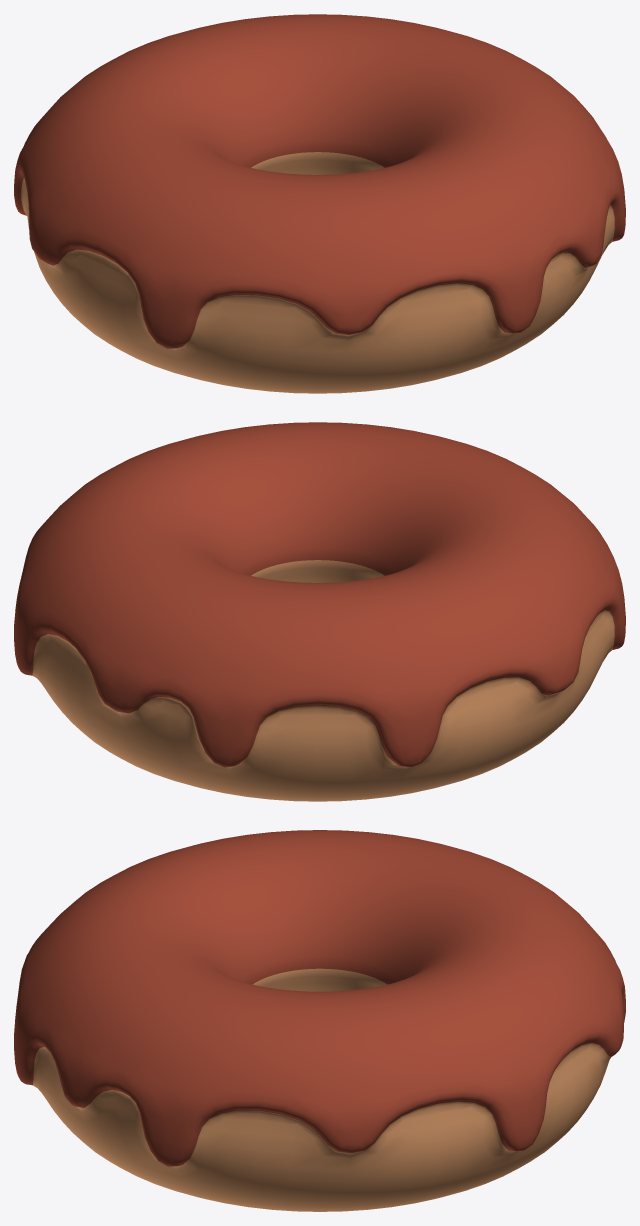
Rendered from Sweet_8.fbx.
The picture shows the model from 3 angles, top to bottom: view 1: azimuth 30°, elevation 25°; view 2: azimuth 150°, elevation 25°; view 3: azimuth 270°, elevation 25°; orthographic projection.
Visible parts, largest first — view 1: Sweet_8; view 2: Sweet_8; view 3: Sweet_8.
Boxes of the visible parts, x1=… form: Sweet_8: x1=14, y1=14, x2=625, y2=393; Sweet_8: x1=14, y1=422, x2=625, y2=801; Sweet_8: x1=14, y1=830, x2=625, y2=1211.
Size of the model in its own units: 59.65 by 21.31 by 59.28.
